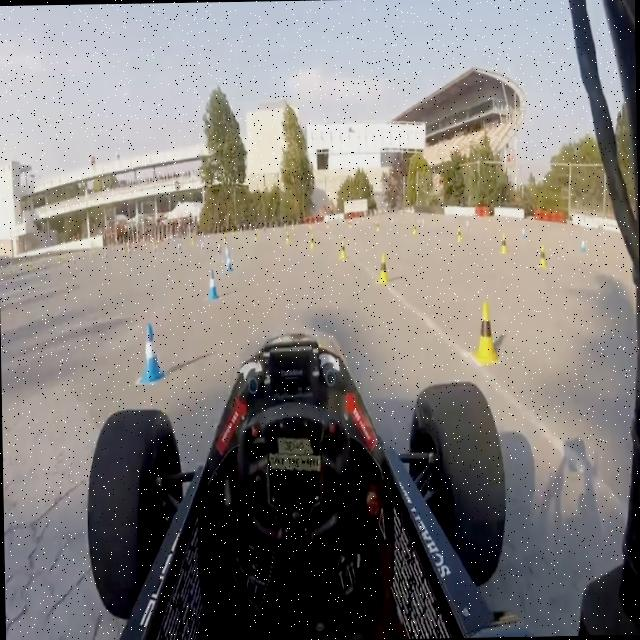blue_cone: (136, 313, 164, 387), (202, 272, 221, 308), (218, 247, 236, 266)
yellow_cone: (471, 294, 499, 371), (372, 248, 393, 284), (305, 230, 317, 264), (335, 234, 349, 262)
